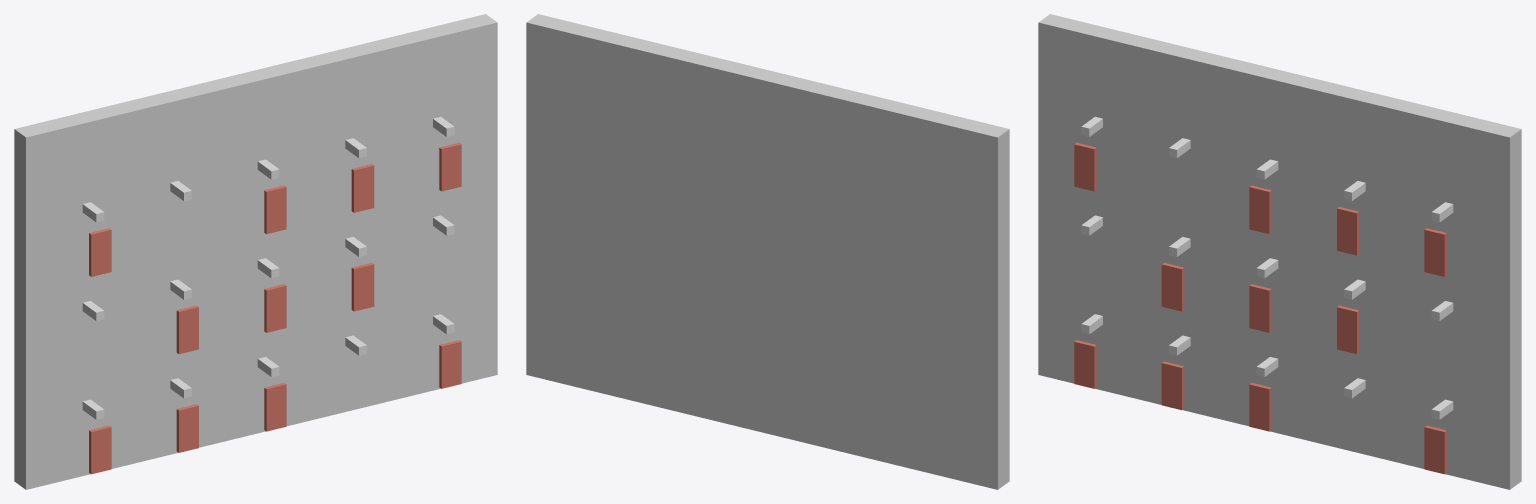
File: key_board.glb
The picture shows the model from 3 angles, left to right: view 1: azimuth 30°, elevation 25°; view 2: azimuth 150°, elevation 25°; view 3: azimuth 330°, elevation 25°; orthographic projection.
Visible parts, largest first — view 1: key_board; view 2: key_board; view 3: key_board.
Part boxes in pixels (left/top/right/bottom): key_board: left=14, top=14, right=497, bottom=489; key_board: left=526, top=14, right=1009, bottom=489; key_board: left=1038, top=14, right=1521, bottom=489.
Bounding box in the file's own units: 0.7 × 0.5 × 0.068.
